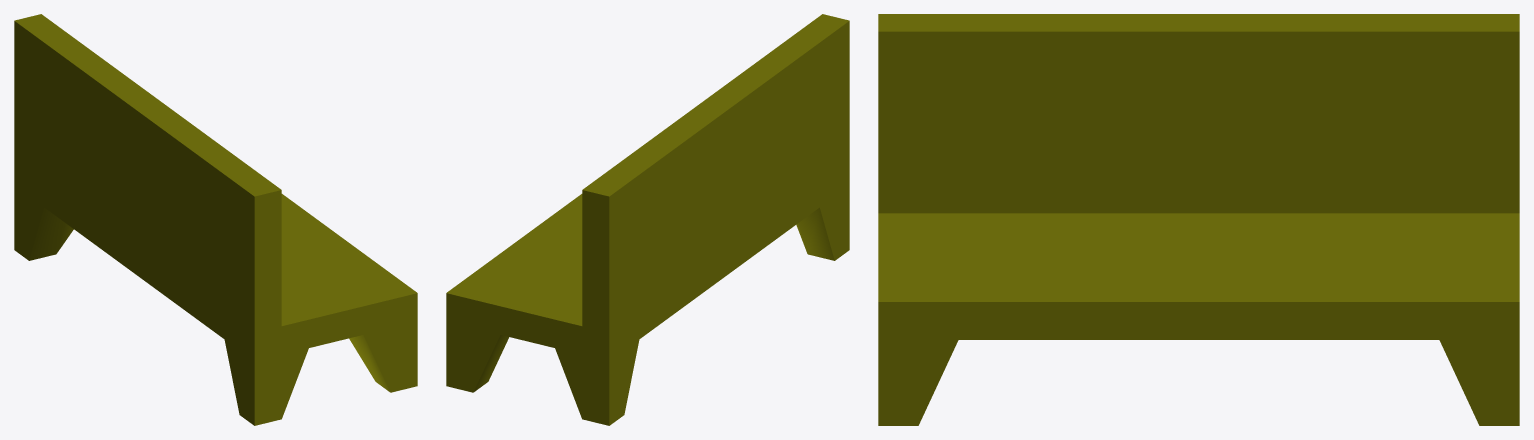
The model's file is sittingbench.fbx.
3 views of the same model, side by side, from view 1: azimuth 30°, elevation 25°; view 2: azimuth 150°, elevation 25°; view 3: azimuth 270°, elevation 25° (orthographic). The views are drawn at different scales.
Parts seen in each view (by area): view 1: sittingbench; view 2: sittingbench; view 3: sittingbench.
Part boxes in pixels (x1,y1,x2,y2): sittingbench: (14,14,417,425); sittingbench: (446,14,849,425); sittingbench: (878,14,1519,425).
Size of the model in its own units: 1.67 by 2.24 by 4.25.
